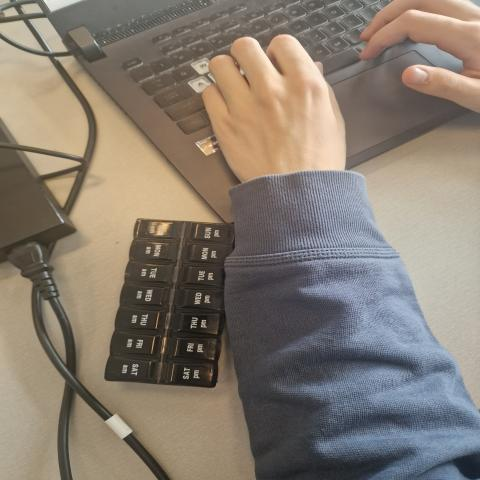Pill-box: (84, 187, 243, 417)
